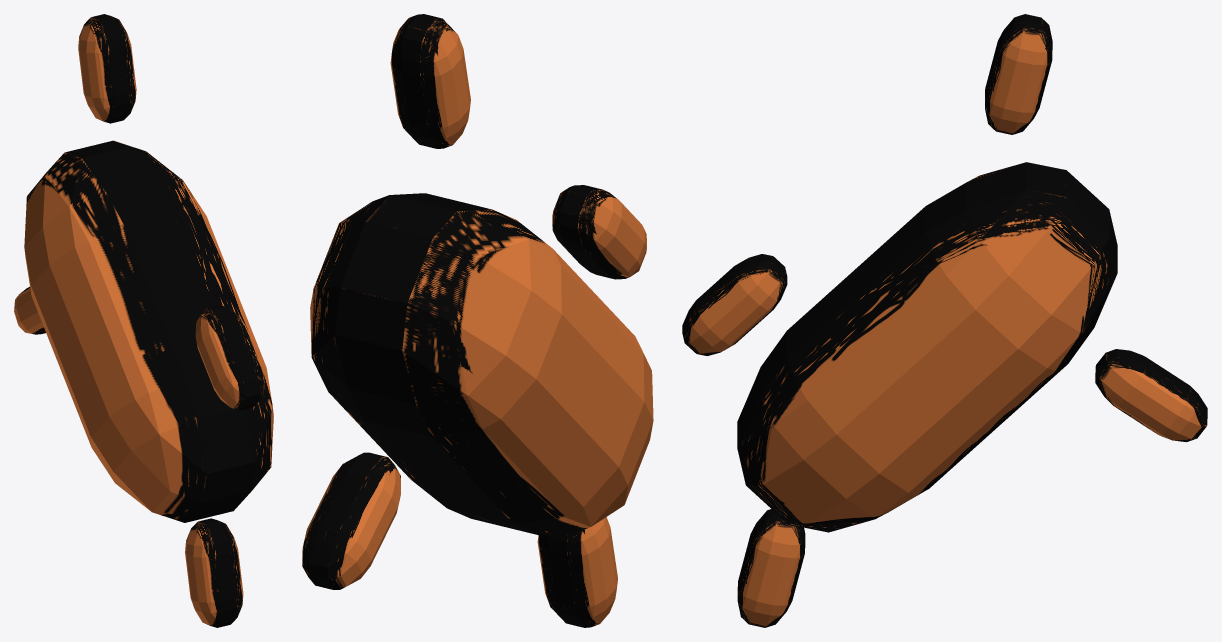
File: item2_tuberculose.fbx
3 views of the same model, side by side, from view 1: azimuth 30°, elevation 25°; view 2: azimuth 150°, elevation 25°; view 3: azimuth 270°, elevation 25° (orthographic). The views are drawn at different scales.
Visible parts, largest first — view 1: Cube, Cube.003, Cube.004, Cube.001, Cube.002; view 2: Cube, Cube.002, Cube.003, Cube.004, Cube.001; view 3: Cube, Cube.002, Cube.001, Cube.003, Cube.004.
Boxes of the visible parts, x1=… form: Cube: x1=24, y1=140, x2=273, y2=522; Cube.003: x1=78, y1=14, x2=136, y2=123; Cube.004: x1=185, y1=518, x2=243, y2=627; Cube.001: x1=195, y1=305, x2=264, y2=410; Cube.002: x1=14, y1=286, x2=45, y2=334; Cube: x1=310, y1=193, x2=653, y2=534; Cube.002: x1=302, y1=452, x2=400, y2=589; Cube.003: x1=390, y1=14, x2=470, y2=148; Cube.004: x1=537, y1=517, x2=617, y2=627; Cube.001: x1=552, y1=185, x2=646, y2=279; Cube: x1=737, y1=162, x2=1117, y2=532; Cube.002: x1=1095, y1=349, x2=1207, y2=442; Cube.001: x1=682, y1=254, x2=787, y2=355; Cube.003: x1=985, y1=14, x2=1052, y2=134; Cube.004: x1=737, y1=509, x2=805, y2=627.
Size of the model in its own units: 241 by 764 by 600.
Materials: 1 (1 with a texture image).
